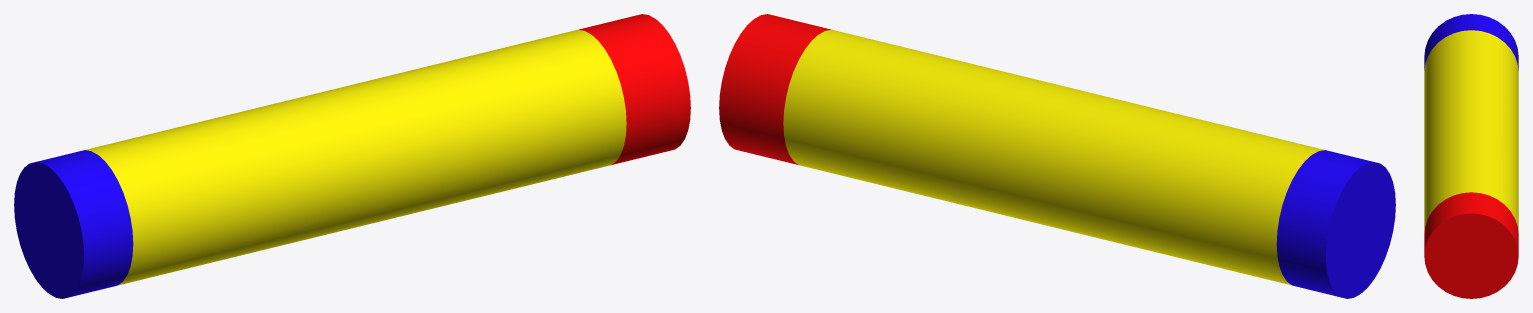
Rendered from rod4.fbx.
3 views of the same model, side by side, from view 1: azimuth 30°, elevation 25°; view 2: azimuth 150°, elevation 25°; view 3: azimuth 270°, elevation 25° (orthographic). The views are drawn at different scales.
Parts seen in each view (by area): view 1: Cylinder.002; view 2: Cylinder.002; view 3: Cylinder.002.
Part boxes in pixels (x1,y1,x2,y2): Cylinder.002: (14,14,690,298); Cylinder.002: (719,14,1395,298); Cylinder.002: (1424,14,1518,298).
Bounding box in the file's own units: 2 × 10 × 2.
